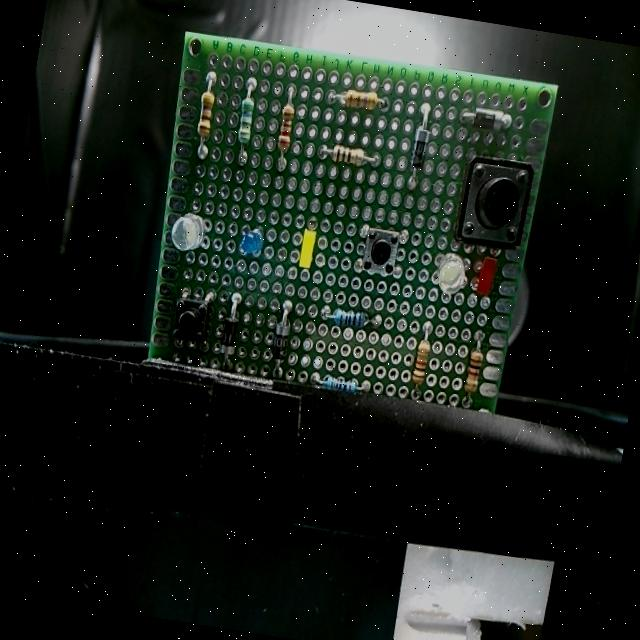diode: (464, 101, 511, 133), (405, 123, 434, 172), (216, 311, 244, 361), (270, 321, 292, 364)
led: (166, 206, 207, 258), (432, 252, 470, 298), (238, 220, 268, 260), (474, 256, 500, 300), (296, 226, 320, 273)
resistor: (461, 349, 488, 402), (338, 86, 383, 115), (233, 98, 257, 149), (194, 88, 217, 140), (328, 305, 368, 333), (328, 142, 369, 169), (274, 102, 296, 152), (318, 374, 360, 398), (412, 338, 432, 388)
switch: (457, 154, 535, 252), (166, 299, 208, 352), (361, 226, 401, 278)
